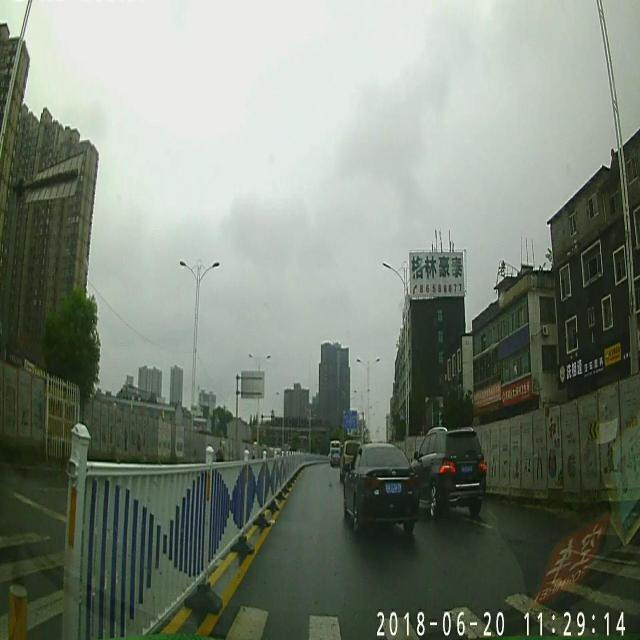car: (412, 426, 484, 520), (343, 444, 420, 528), (337, 442, 359, 477), (331, 440, 339, 462)
